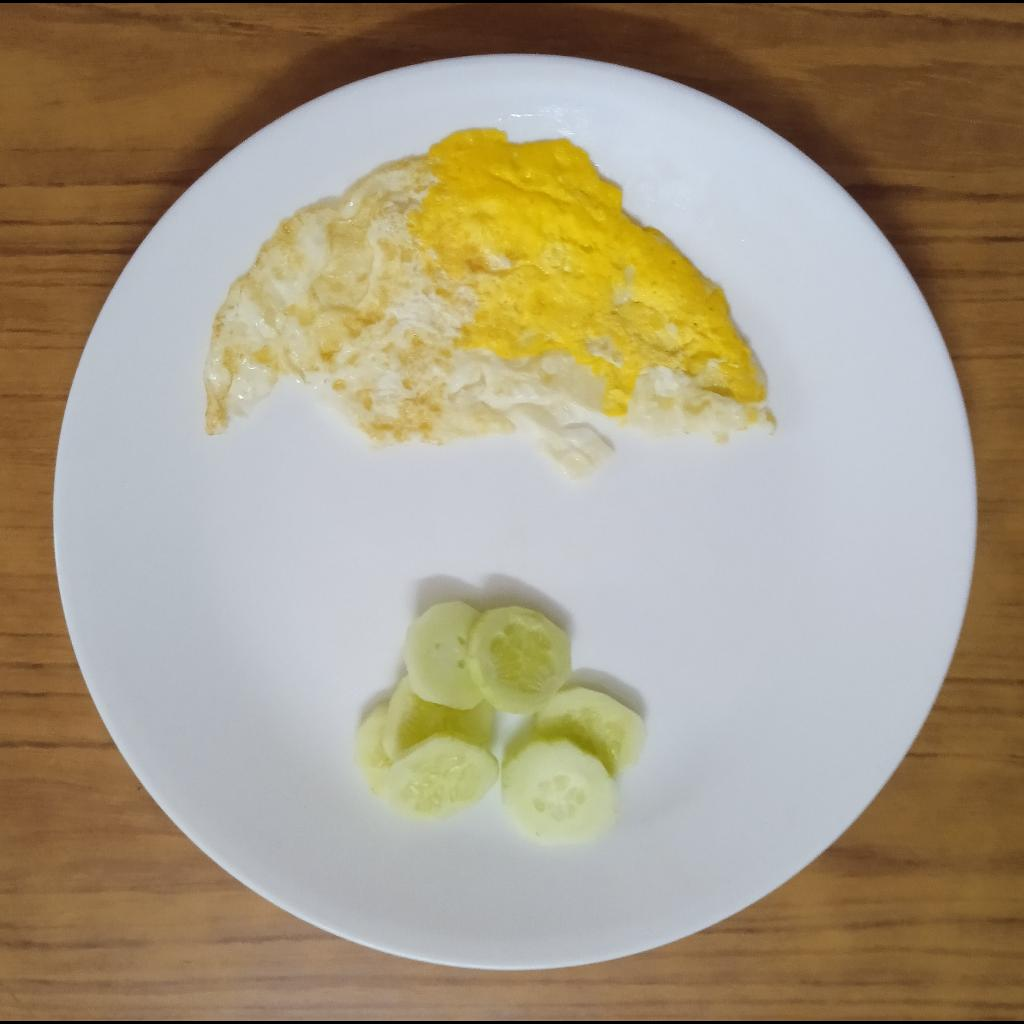cucumber: (356, 598, 652, 849)
egg-poached: (202, 126, 822, 472)
